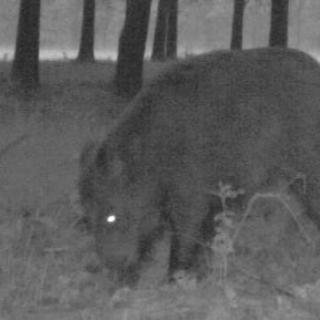Pig: (53, 22, 320, 285)
